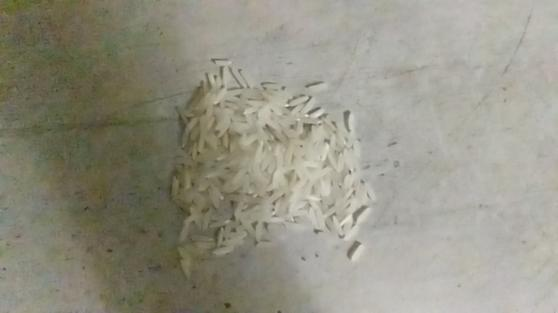rice: (147, 56, 389, 294)
